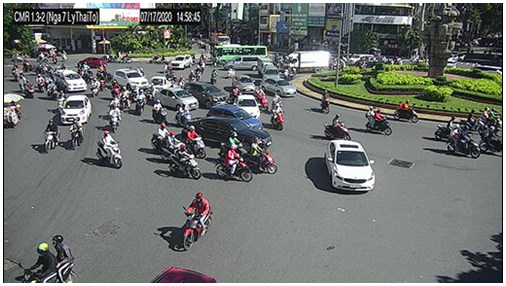xe_buyt: (213, 46, 267, 60)
xe_hoi: (208, 106, 262, 132), (156, 87, 198, 111), (62, 95, 93, 124), (189, 85, 229, 106), (260, 77, 298, 98), (114, 68, 148, 89), (56, 69, 87, 92), (233, 95, 260, 120), (225, 56, 258, 71), (234, 76, 257, 94), (170, 54, 192, 70), (262, 65, 278, 80)
xe_may: (18, 235, 76, 283), (180, 192, 213, 253), (214, 144, 254, 183), (445, 125, 481, 160), (169, 144, 202, 180), (246, 138, 277, 175), (95, 131, 122, 169), (220, 133, 251, 165), (180, 125, 206, 159), (433, 115, 465, 142), (161, 131, 188, 162), (151, 122, 177, 154), (365, 106, 392, 136), (326, 114, 352, 142), (460, 109, 488, 134), (480, 125, 501, 157), (42, 120, 61, 153), (393, 100, 419, 124), (69, 117, 85, 151), (480, 106, 502, 130), (151, 98, 167, 124), (109, 101, 122, 131), (271, 103, 284, 132), (175, 103, 192, 125), (118, 85, 131, 112), (45, 78, 58, 101), (90, 76, 102, 99), (79, 61, 93, 80), (321, 89, 332, 113), (135, 88, 144, 117), (257, 87, 267, 113), (229, 85, 242, 105), (108, 79, 120, 100), (22, 78, 35, 97), (105, 51, 120, 63), (12, 60, 20, 82), (151, 54, 167, 65), (58, 89, 65, 113), (166, 66, 177, 81), (36, 72, 44, 92), (194, 62, 202, 80), (227, 62, 235, 79), (197, 53, 206, 68), (210, 68, 217, 85), (51, 51, 58, 65), (179, 74, 185, 88)
xe_tai: (284, 51, 330, 71)
